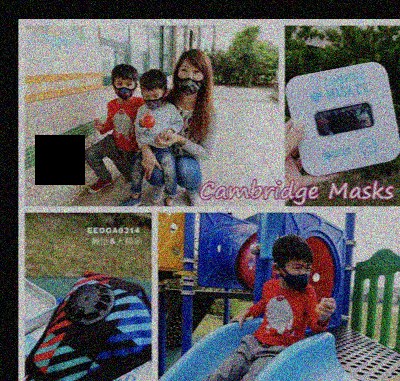with_mask: (283, 261, 313, 295), (175, 63, 204, 97), (112, 79, 136, 102), (142, 91, 165, 112)
